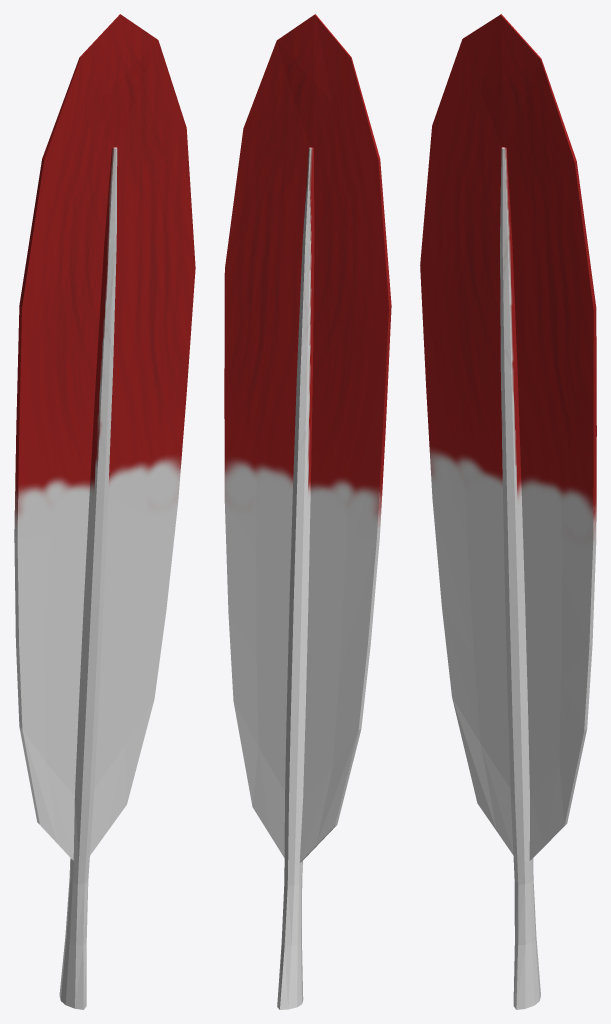
The model's file is Feather.glb.
The picture shows the model from 3 angles, left to right: view 1: azimuth 30°, elevation 25°; view 2: azimuth 150°, elevation 25°; view 3: azimuth 330°, elevation 25°; orthographic projection. The views are drawn at different scales.
Parts seen in each view (by area): view 1: Node; view 2: Node; view 3: Node.
Boxes of the visible parts, bbox=[...] form: Node: bbox=[14, 14, 195, 1009]; Node: bbox=[224, 14, 391, 1009]; Node: bbox=[420, 14, 596, 1009].
Bounding box in the file's own units: 0.7939 × 4.44 × 0.3817.
1 material, 1 textured.
